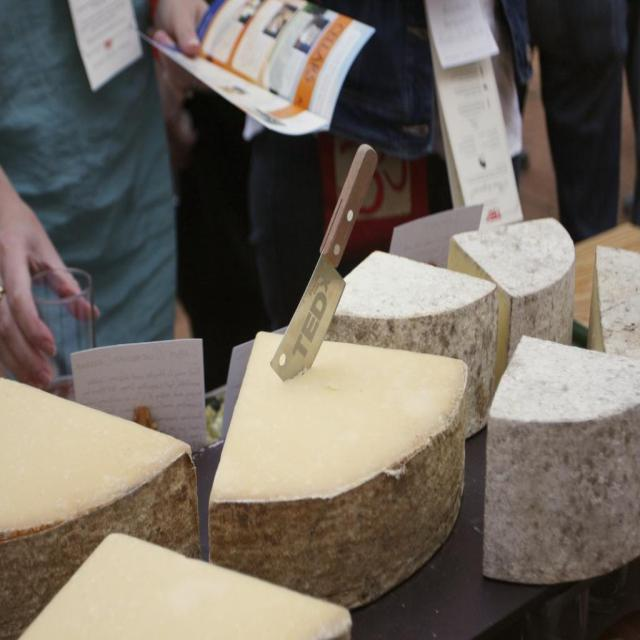Cheese: (208, 327, 474, 606), (0, 372, 197, 639), (485, 330, 640, 588), (15, 532, 358, 639), (328, 248, 498, 438), (453, 210, 579, 384), (589, 244, 640, 350)
